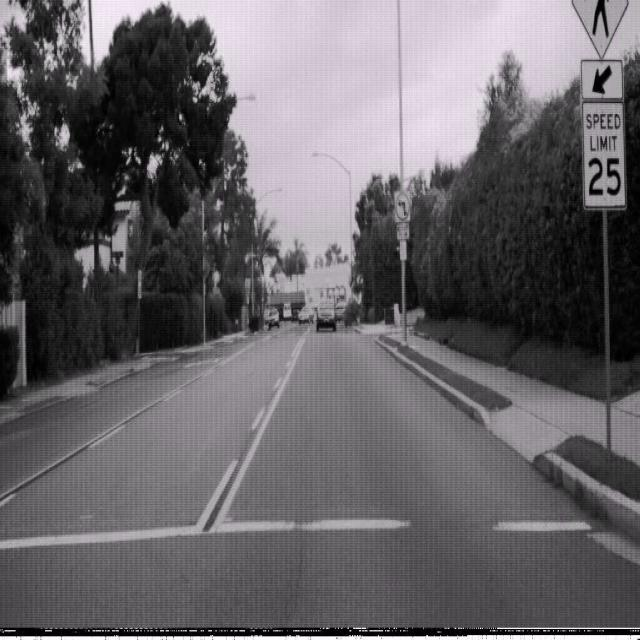noLeftTurn: (394, 190, 411, 221)
speedLimit25: (580, 98, 627, 211)
